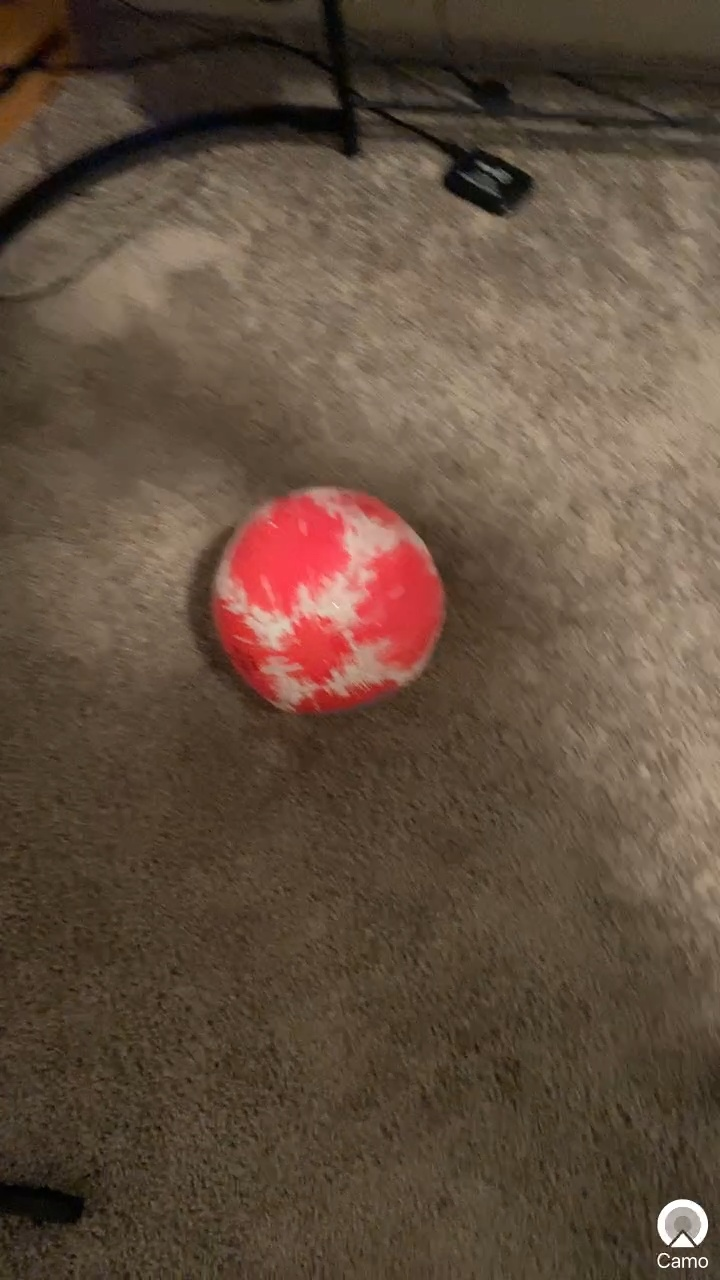Soccer_Ball: (186, 471, 472, 759)
